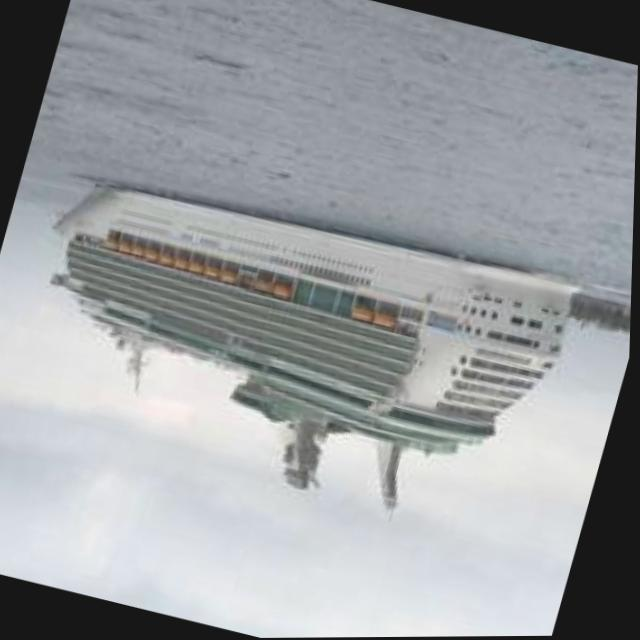ship2: (52, 180, 582, 509)
